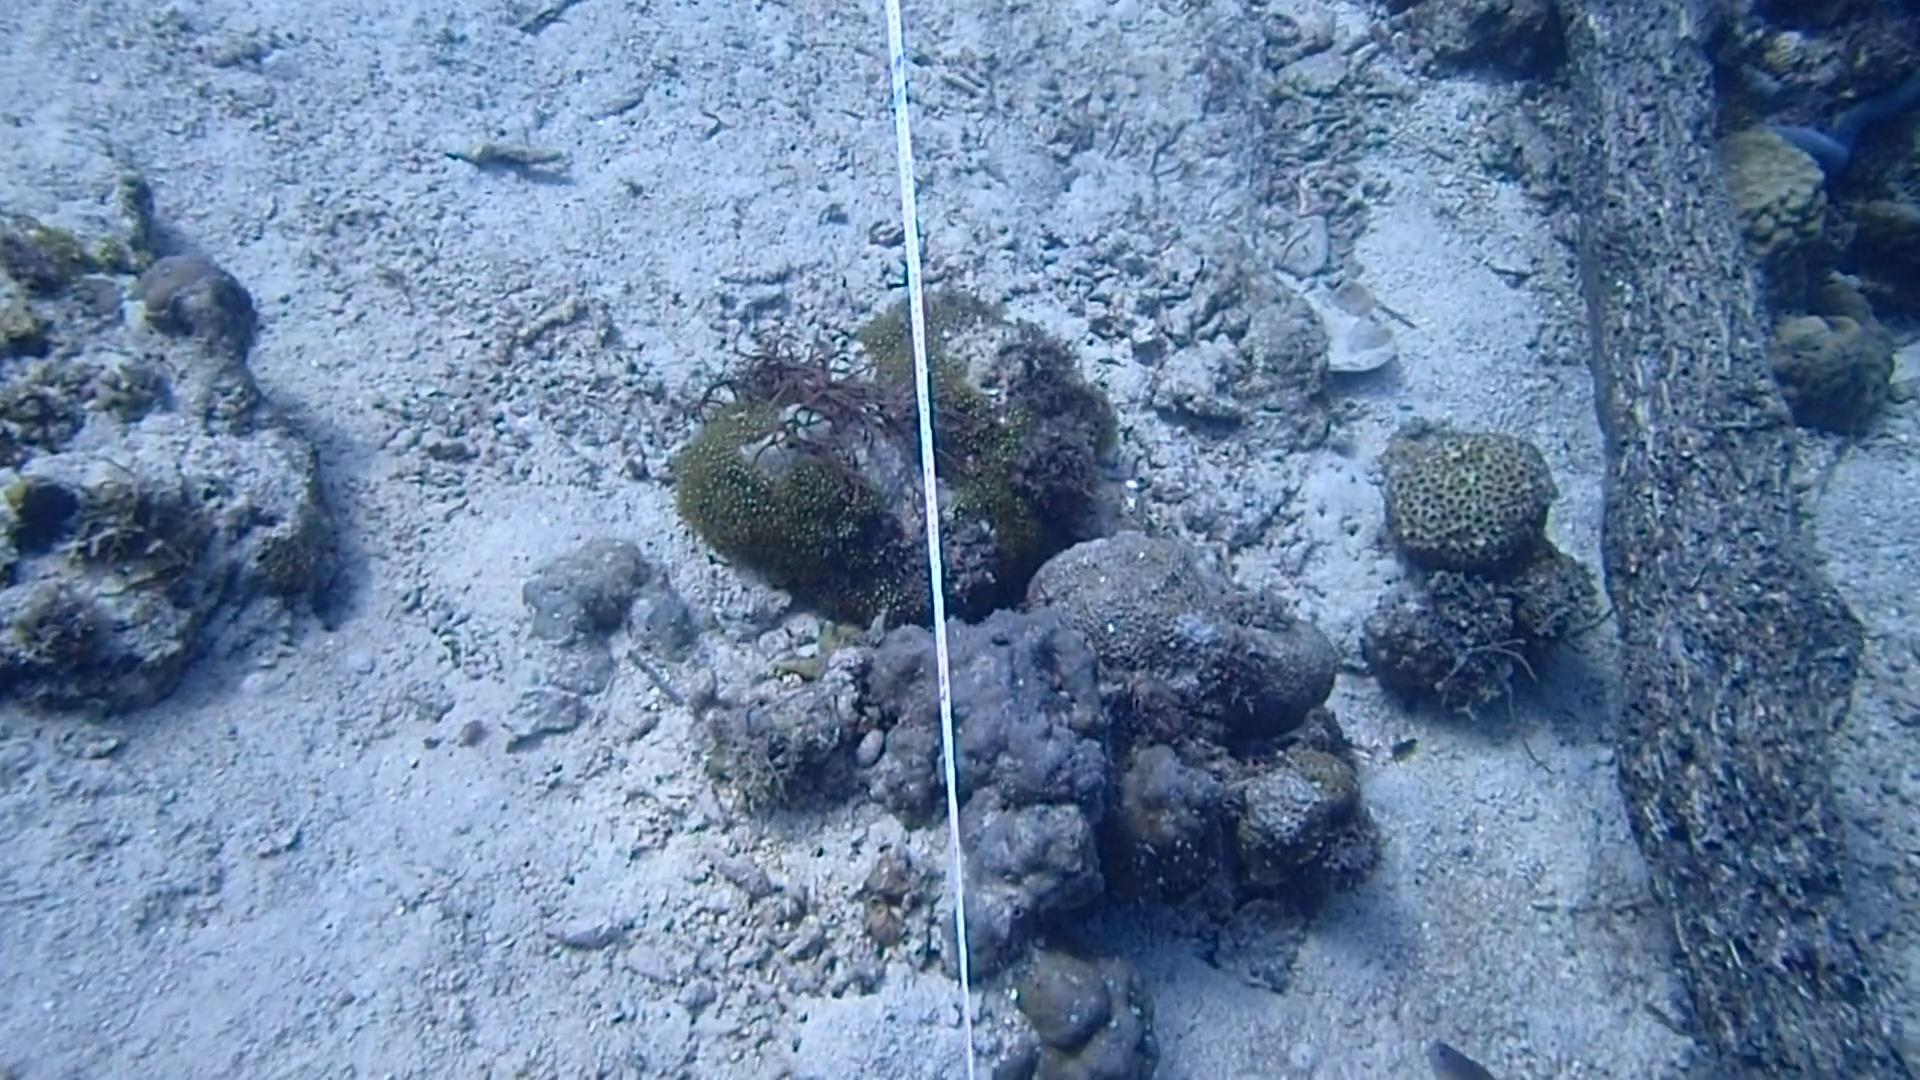Light Fish: (1411, 1027, 1491, 1080)
